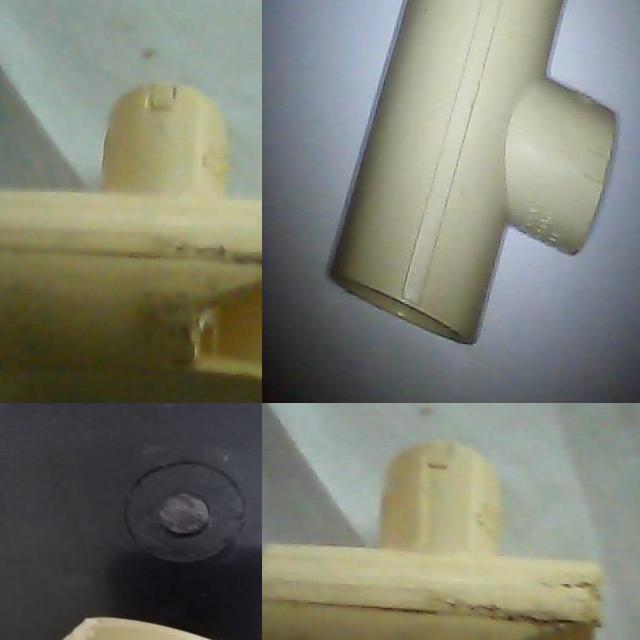Defective: (188, 280, 262, 382)
T Joint: (325, 0, 619, 348), (0, 83, 262, 403), (262, 442, 606, 640)
